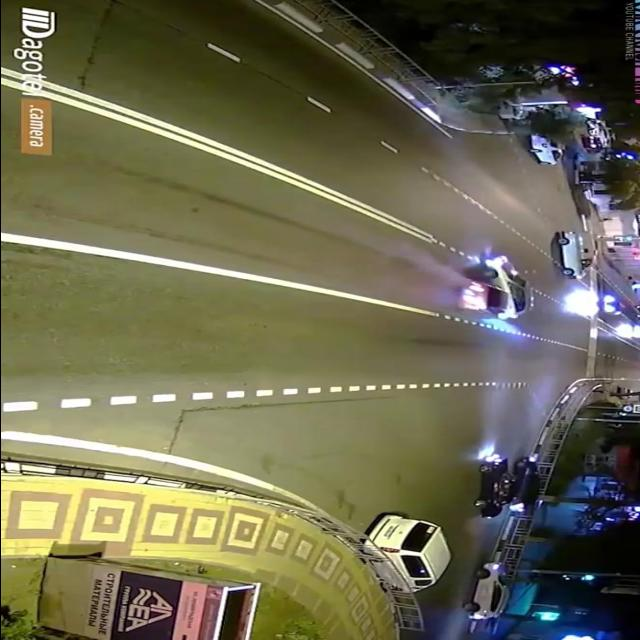accident: (453, 250, 539, 326)
non_accident: (466, 451, 550, 523)
